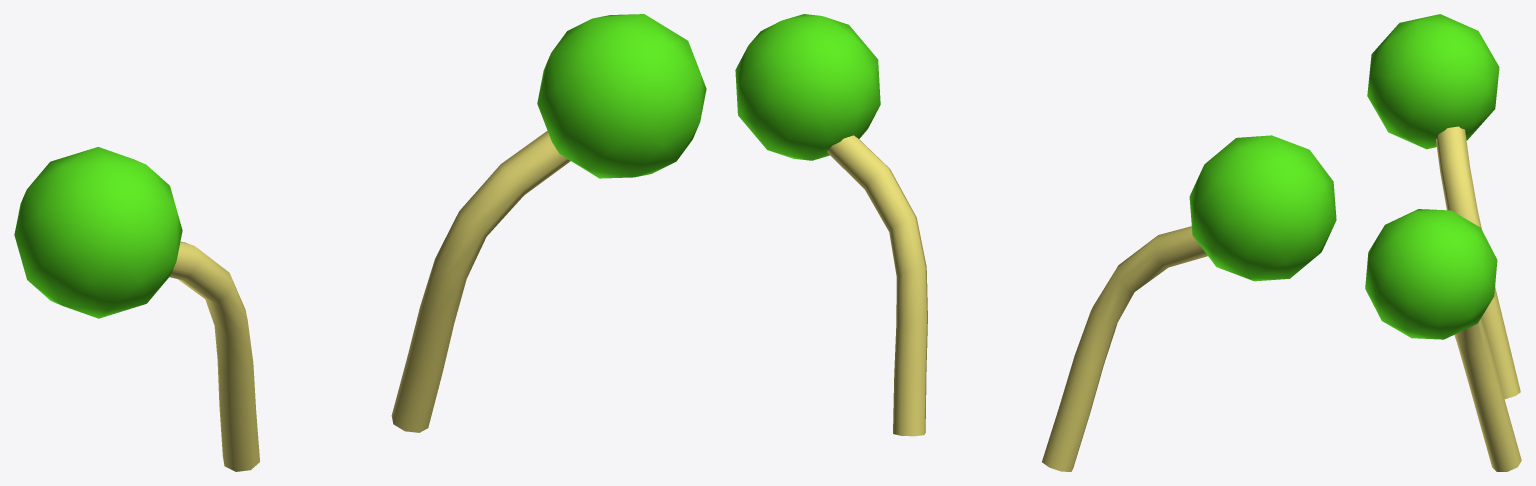
The model's file is antenna.fbx.
3 views of the same model, side by side, from view 1: azimuth 30°, elevation 25°; view 2: azimuth 150°, elevation 25°; view 3: azimuth 270°, elevation 25° (orthographic). The views are drawn at different scales.
Visible parts, largest first — view 1: Antenna; view 2: Antenna; view 3: Antenna.
Part boxes in pixels (bbox=[...]): Antenna: bbox=[14, 14, 706, 471]; Antenna: bbox=[735, 14, 1336, 471]; Antenna: bbox=[1365, 14, 1521, 471].
Bounding box in the file's own units: 72.65 × 18.85 × 41.92.
